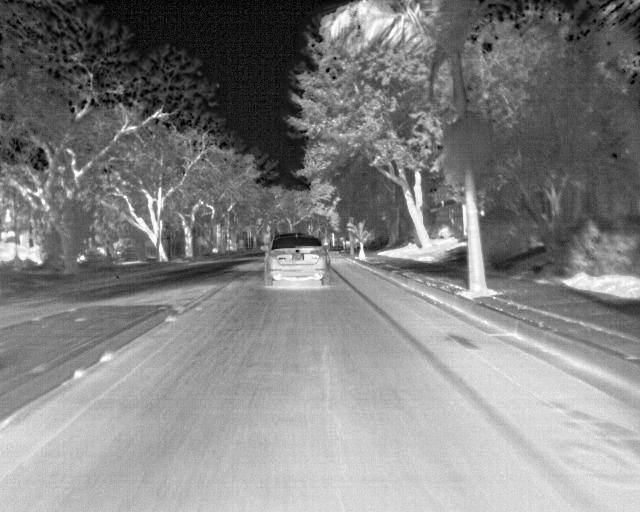car: (261, 232, 331, 290)
